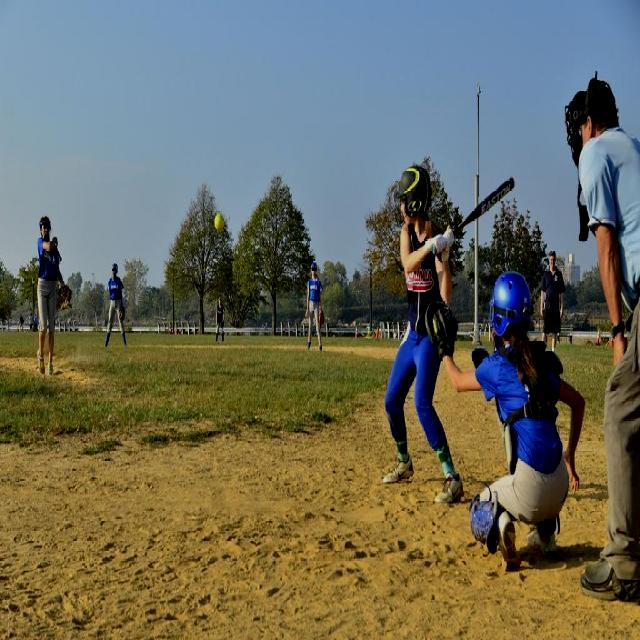baseball bat: (455, 175, 521, 229)
sports ball: (212, 212, 230, 232)
